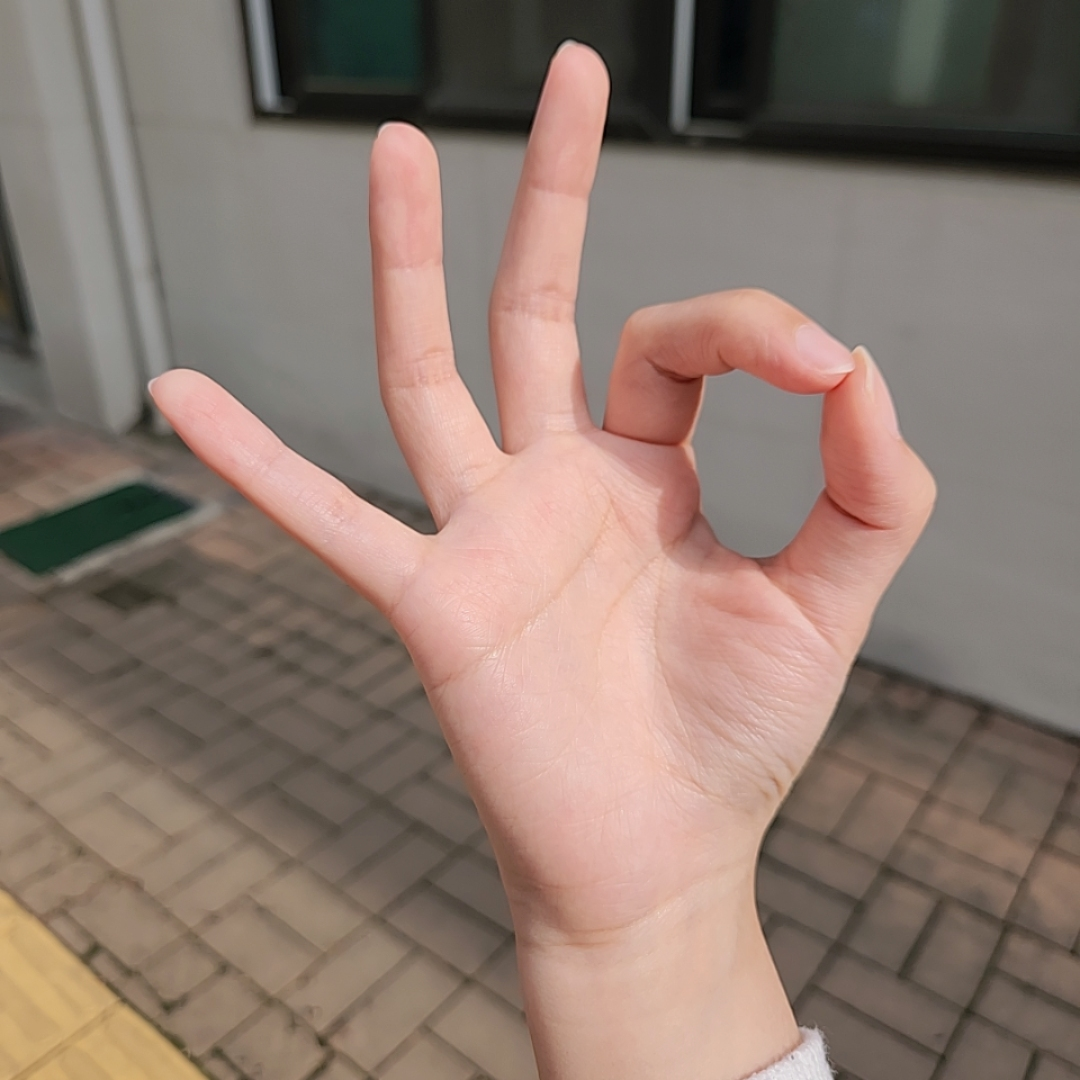see: (145, 38, 939, 886)
